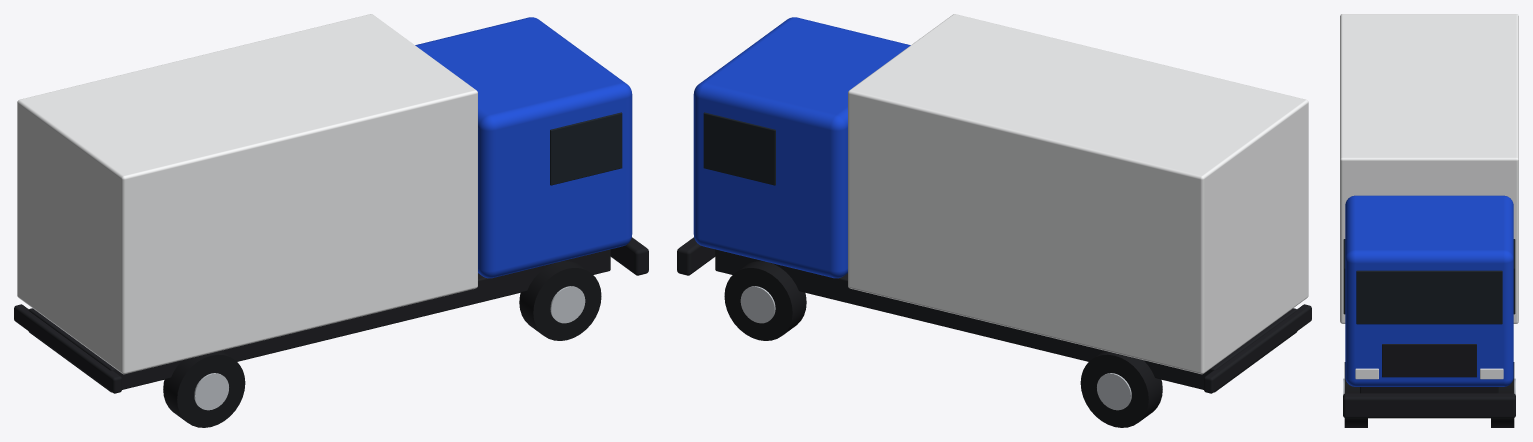
File: box-truck.glb
3 renders of one model, left to right at view 1: azimuth 30°, elevation 25°; view 2: azimuth 150°, elevation 25°; view 3: azimuth 270°, elevation 25°, orthographic. The views are drawn at different scales.
Parts seen in each view (by area): view 1: Box, Cab, Tyres, Chassis, Windows, Trim, Hubs; view 2: Box, Cab, Tyres, Chassis, Windows, Trim, Hubs; view 3: Box, Cab, Windows, Trim, Chassis, Tyres, Lights.
Boxes of the visible parts, left/top/right/bottom form: Box: left=17, top=14, right=477, bottom=374; Cab: left=415, top=17, right=632, bottom=278; Tyres: left=163, top=261, right=601, bottom=427; Chassis: left=28, top=249, right=610, bottom=392; Windows: left=550, top=112, right=622, bottom=185; Trim: left=14, top=237, right=648, bottom=393; Hubs: left=194, top=286, right=585, bottom=410; Box: left=848, top=14, right=1308, bottom=374; Cab: left=693, top=17, right=910, bottom=278; Tyres: left=724, top=261, right=1162, bottom=427; Chassis: left=715, top=249, right=1297, bottom=392; Windows: left=703, top=112, right=775, bottom=185; Trim: left=677, top=237, right=1311, bottom=393; Hubs: left=740, top=286, right=1131, bottom=410; Box: left=1340, top=14, right=1518, bottom=323; Cab: left=1345, top=195, right=1513, bottom=386; Windows: left=1343, top=239, right=1515, bottom=324; Trim: left=1343, top=344, right=1515, bottom=418; Chassis: left=1360, top=387, right=1498, bottom=393; Tyres: left=1344, top=362, right=1514, bottom=427; Lights: left=1355, top=368, right=1503, bottom=379.
Bounding box in the file's own units: 7.06 × 3.45 × 2.44.
